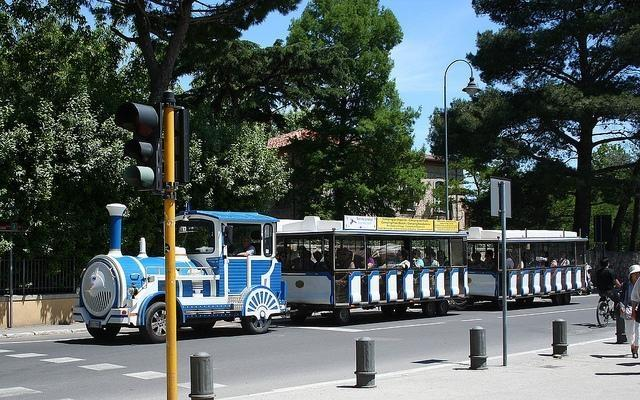bicycle: (596, 294, 616, 328)
